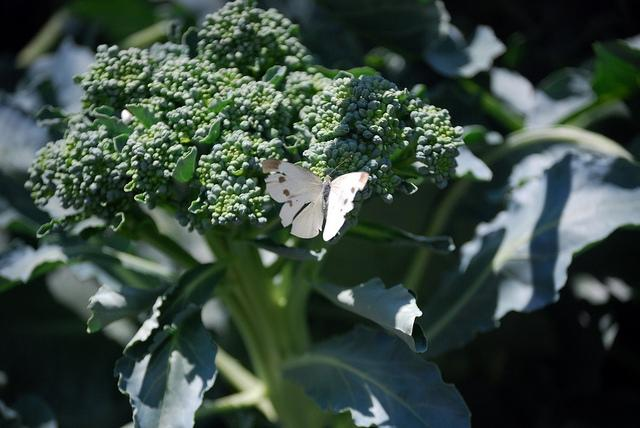broccoli: (28, 0, 474, 428)
